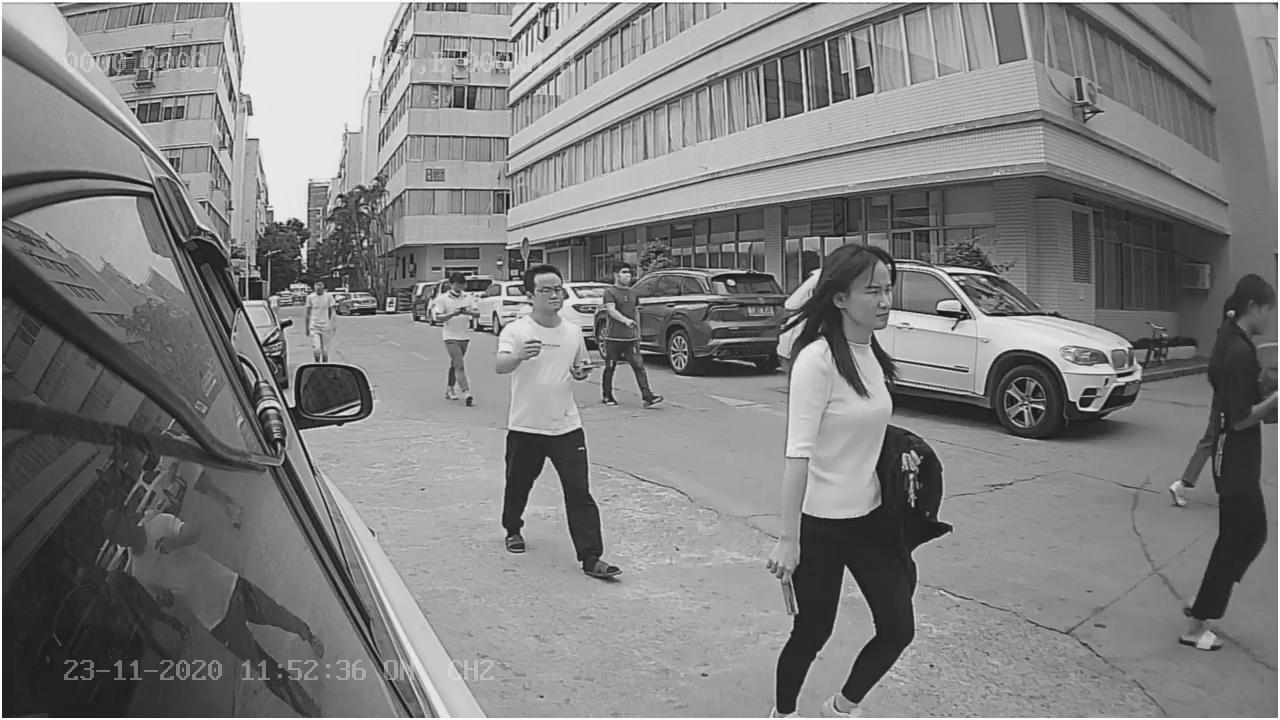person: (766, 246, 920, 718), (494, 262, 605, 587)
